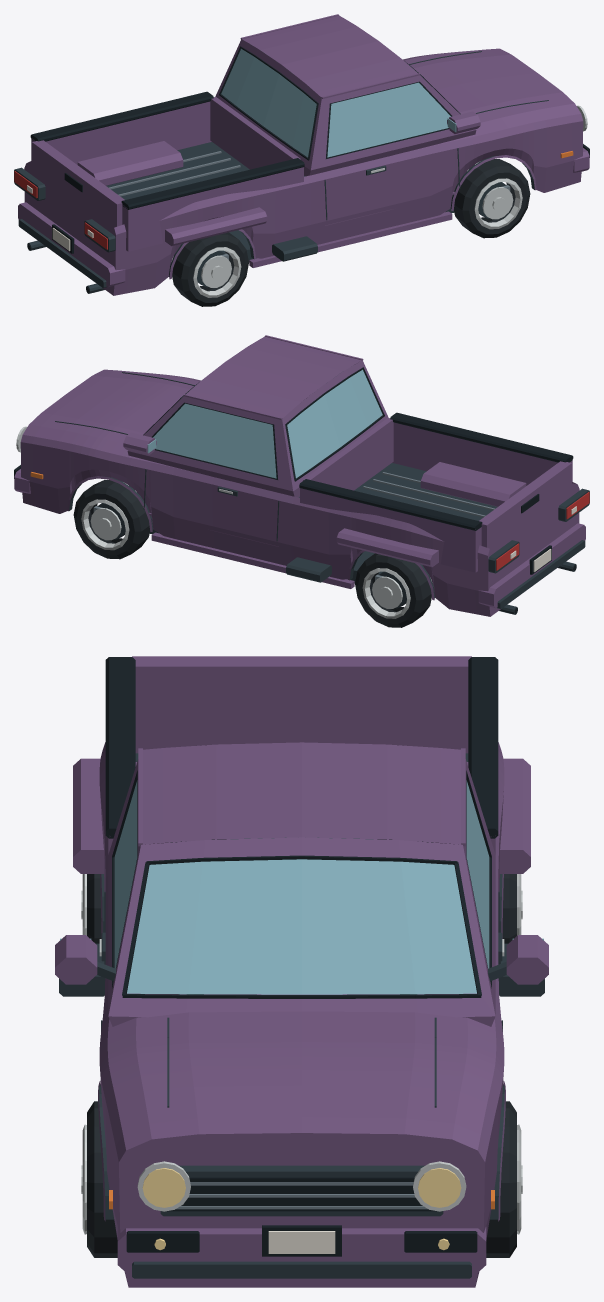
File: b03_stepside_sport_pickup.glb
The picture shows the model from 3 angles, top to bottom: view 1: azimuth 30°, elevation 25°; view 2: azimuth 150°, elevation 25°; view 3: azimuth 270°, elevation 25°; orthographic projection. The views are drawn at different scales.
Visible parts, largest first — view 1: b03_stepside_sport_pickup; view 2: b03_stepside_sport_pickup; view 3: b03_stepside_sport_pickup.
Boxes of the visible parts, box(x1,y1,x2,y2) form: b03_stepside_sport_pickup: box(14, 14, 589, 306); b03_stepside_sport_pickup: box(14, 335, 589, 627); b03_stepside_sport_pickup: box(55, 656, 548, 1287).
Bounding box in the file's own units: 5.08 × 1.73 × 2.22.
